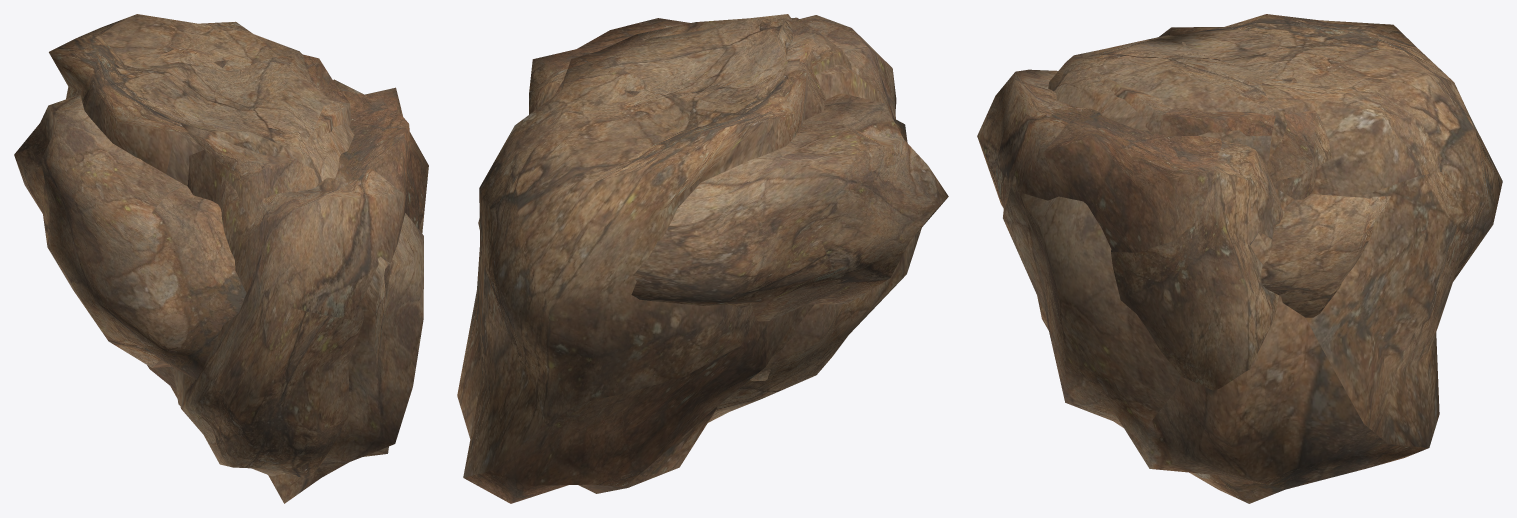
Rendered from rock_3.glb.
The picture shows the model from 3 angles, left to right: view 1: azimuth 30°, elevation 25°; view 2: azimuth 150°, elevation 25°; view 3: azimuth 270°, elevation 25°; orthographic projection. The views are drawn at different scales.
Parts seen in each view (by area): view 1: BoulderC; view 2: BoulderC; view 3: BoulderC.
Boxes of the visible parts, x1=… form: BoulderC: x1=14, y1=14, x2=428, y2=503; BoulderC: x1=457, y1=14, x2=948, y2=503; BoulderC: x1=977, y1=14, x2=1502, y2=503.
Size of the model in its own units: 1.68 by 1.83 by 2.2.
1 material, 1 textured.
